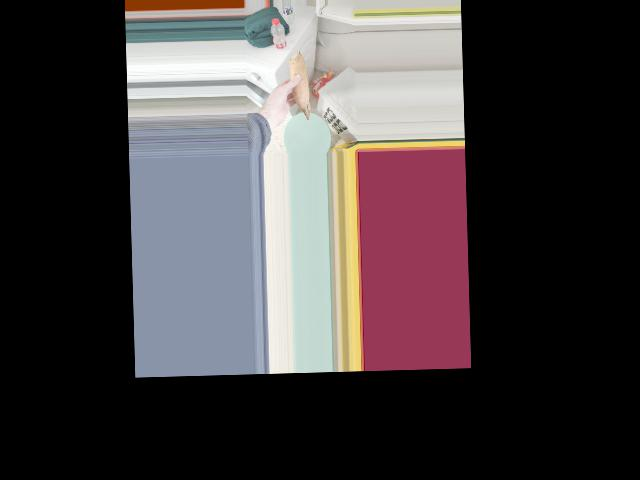sweet_potato: (289, 56, 310, 122)
